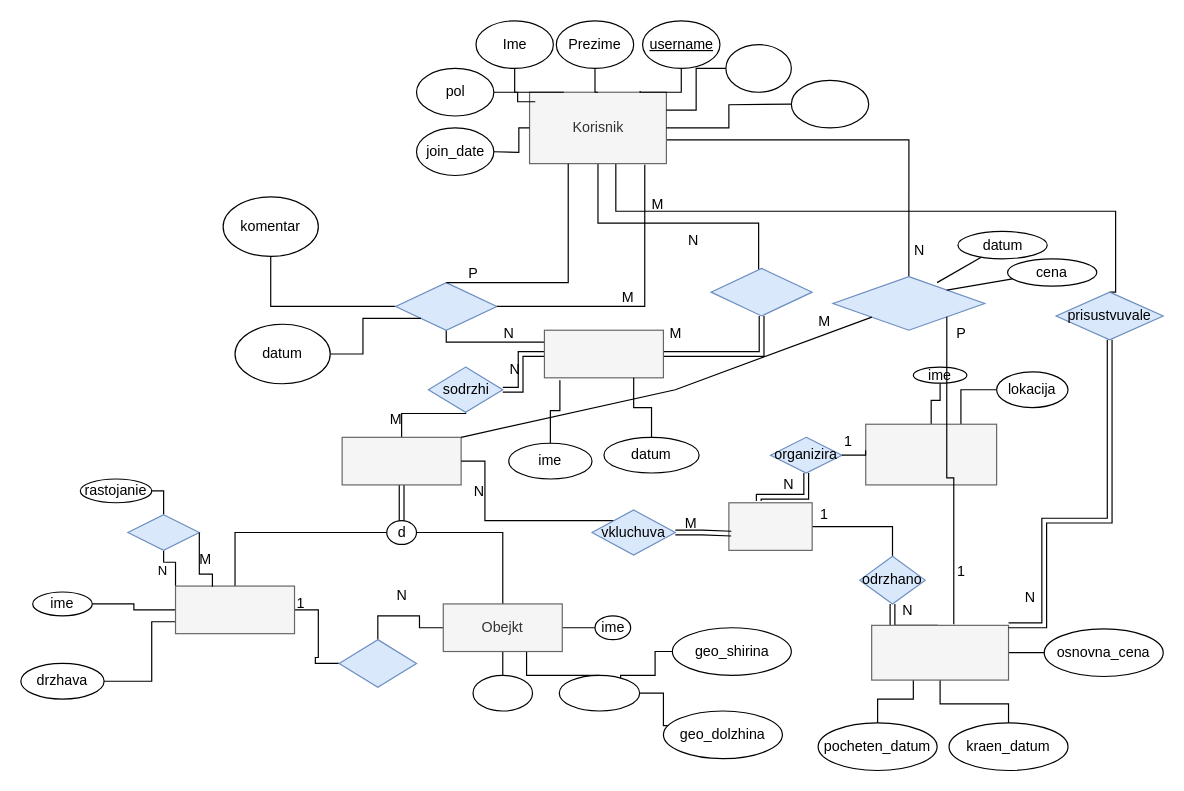
Image size: 1184x791. Some labels were removed from this diagram. Here are the shapes that lost their labels. From the top down, the box of each, then its label:
(725, 43, 791, 92): email
(790, 79, 869, 128): birthdate
(394, 281, 497, 330): ja_spodeli
(710, 267, 812, 316): poseduva
(832, 275, 985, 330): fakultativna_poseta
(543, 329, 663, 378): Turistichka_lista
(341, 436, 461, 485): Turistichko_mesto
(865, 423, 997, 485): Tusistichka_agencija
(127, 513, 199, 550): sosed_na
(728, 502, 812, 550): Patuvanje
(174, 585, 295, 634): Grad
(338, 638, 416, 687): gi_sodrzhi
(870, 624, 1009, 680): Odrzhano_patuvanje
(472, 674, 533, 711): adresa
(558, 674, 640, 711): geo_lokacija
